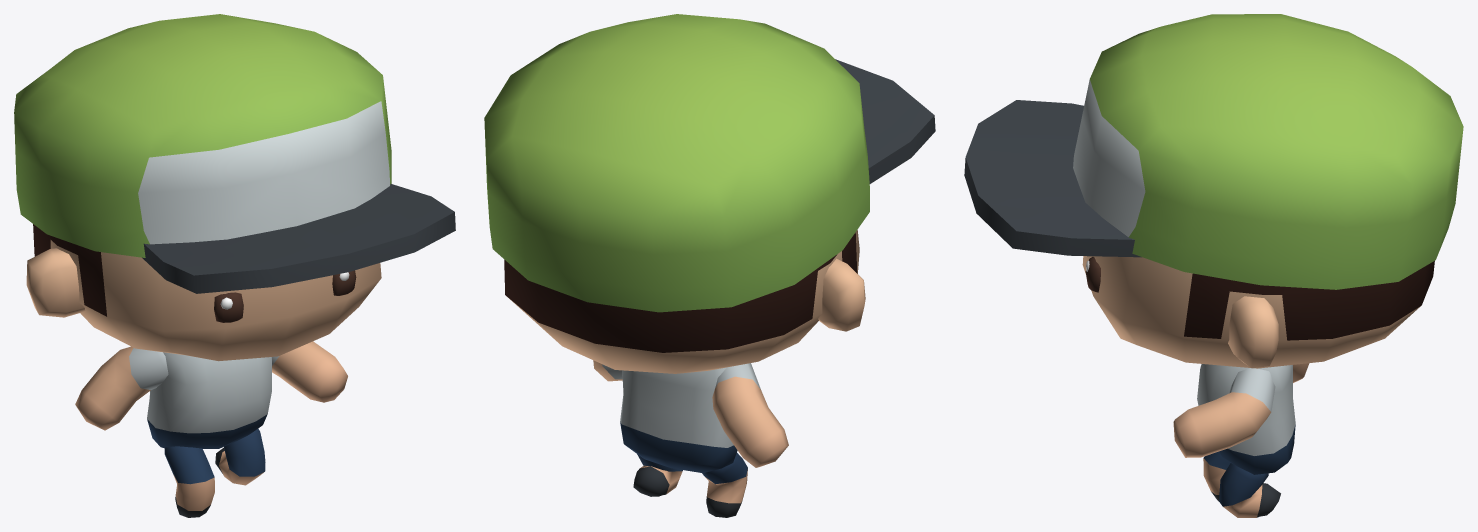
Rendered from run_0013.obj.
3 views of the same model, side by side, from view 1: azimuth 30°, elevation 25°; view 2: azimuth 150°, elevation 25°; view 3: azimuth 270°, elevation 25° (orthographic). The views are drawn at different scales.
Parts seen in each view (by area): view 1: Object_41, Object_42, Object_36, Object_44, Object_38; view 2: Object_41, Object_36, Object_44, Object_42; view 3: Object_41, Object_36, Object_42, Object_44.
Part boxes in pixels (<box>): Object_41: <box>14,14,391,257</box>; Object_42: <box>138,101,455,293</box>; Object_36: <box>26,224,381,361</box>; Object_44: <box>75,341,347,517</box>; Object_38: <box>214,270,356,322</box>; Object_41: <box>484,14,869,312</box>; Object_36: <box>504,230,865,373</box>; Object_44: <box>593,360,788,517</box>; Object_42: <box>835,59,935,183</box>; Object_41: <box>1090,14,1463,289</box>; Object_36: <box>1082,256,1434,368</box>; Object_42: <box>964,79,1145,257</box>; Object_44: <box>1173,363,1309,517</box>.
Size of the model in its own units: 0.9691 by 1.2 by 1.14.
